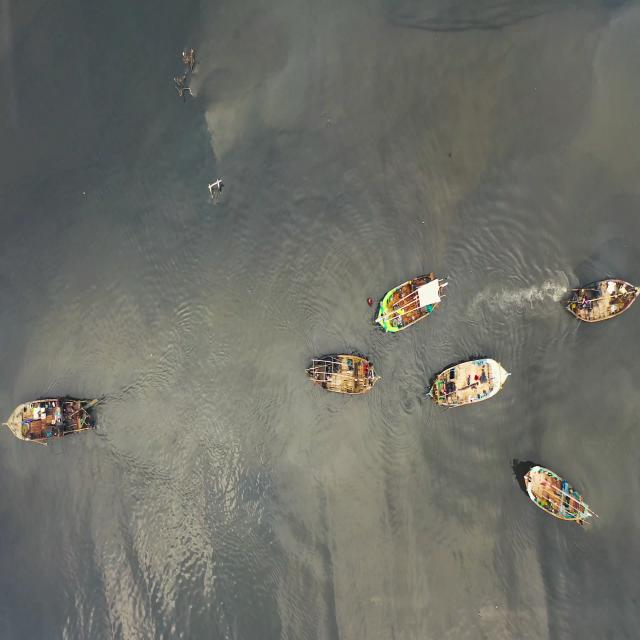ship: (522, 459, 602, 526), (376, 268, 448, 335), (6, 397, 106, 439), (562, 270, 637, 322), (424, 361, 511, 404), (304, 352, 383, 398)
